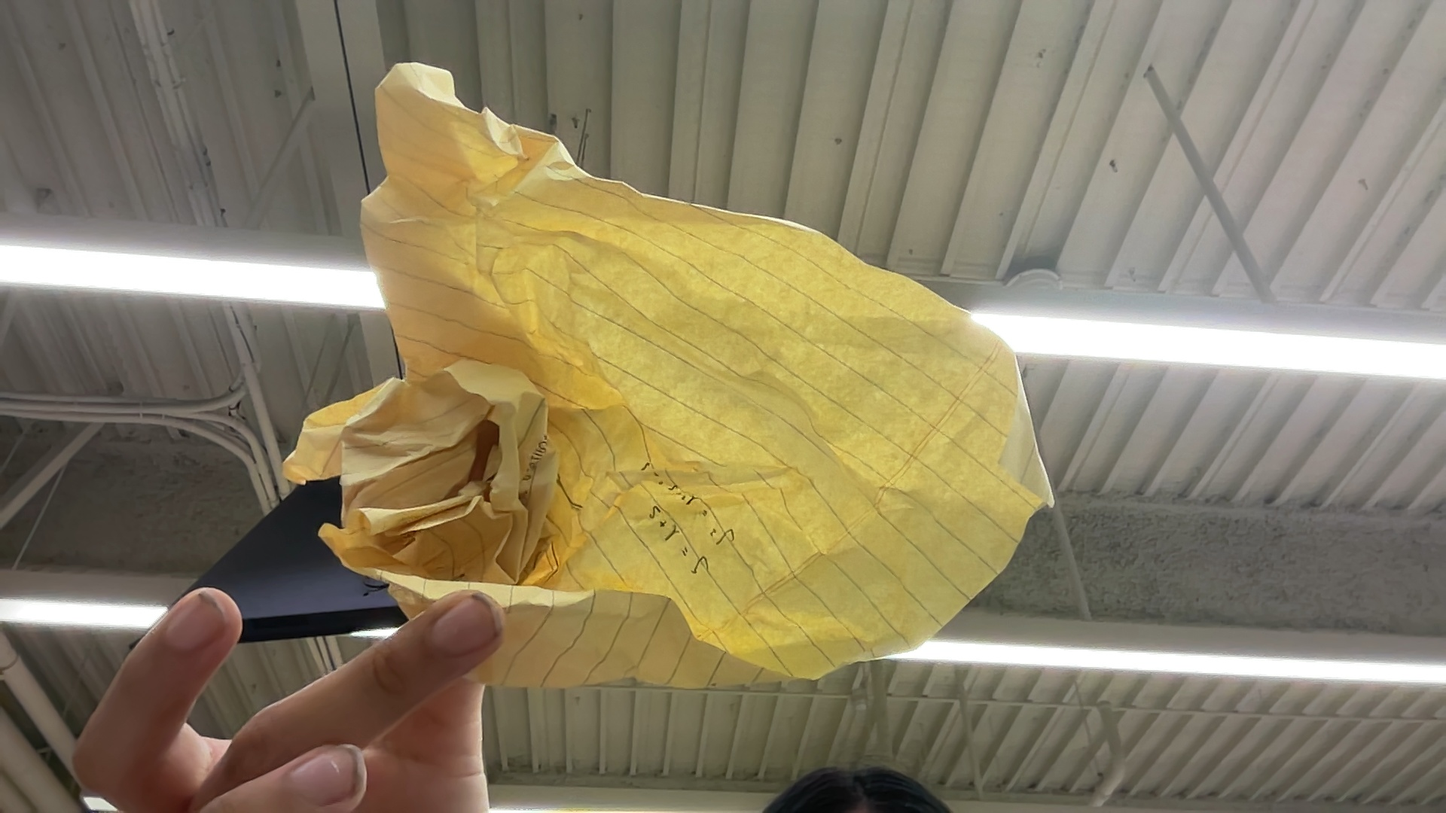Paper: (359, 37, 1082, 653)
